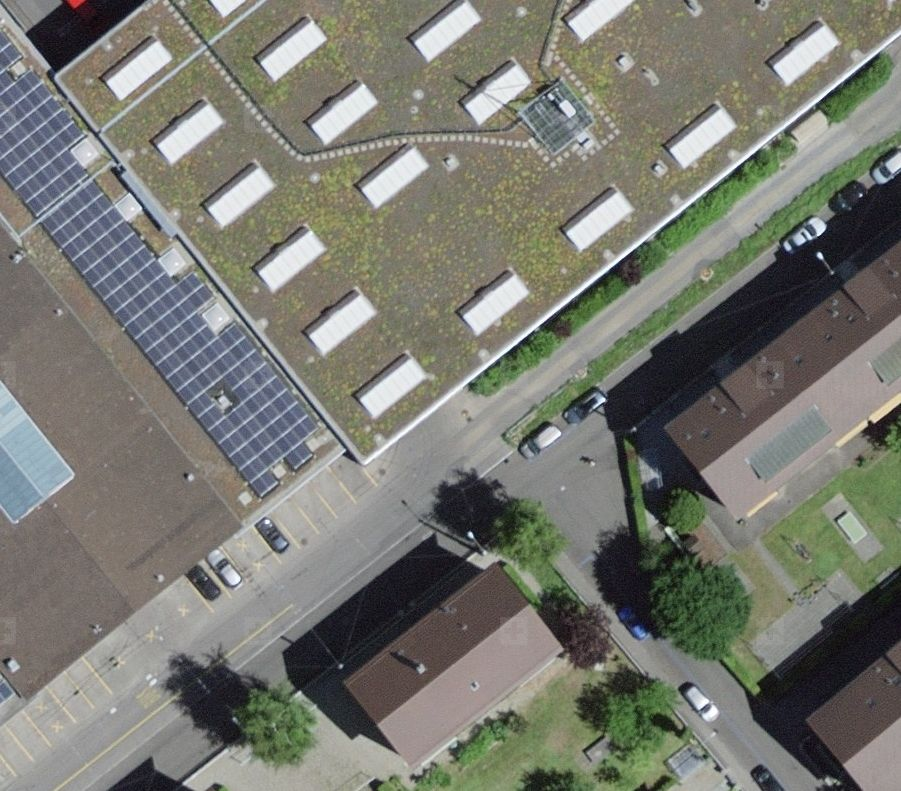solar: (1, 26, 321, 500)
